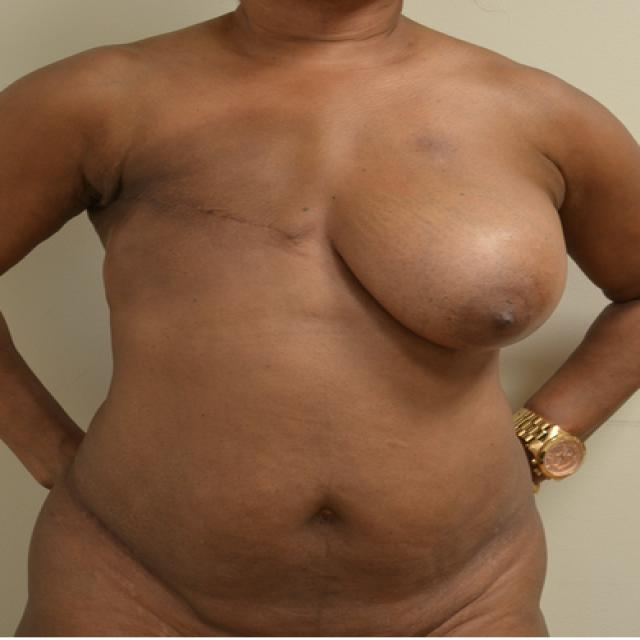Seno herido: (96, 163, 326, 359)
Seno ileso: (334, 164, 579, 361)
